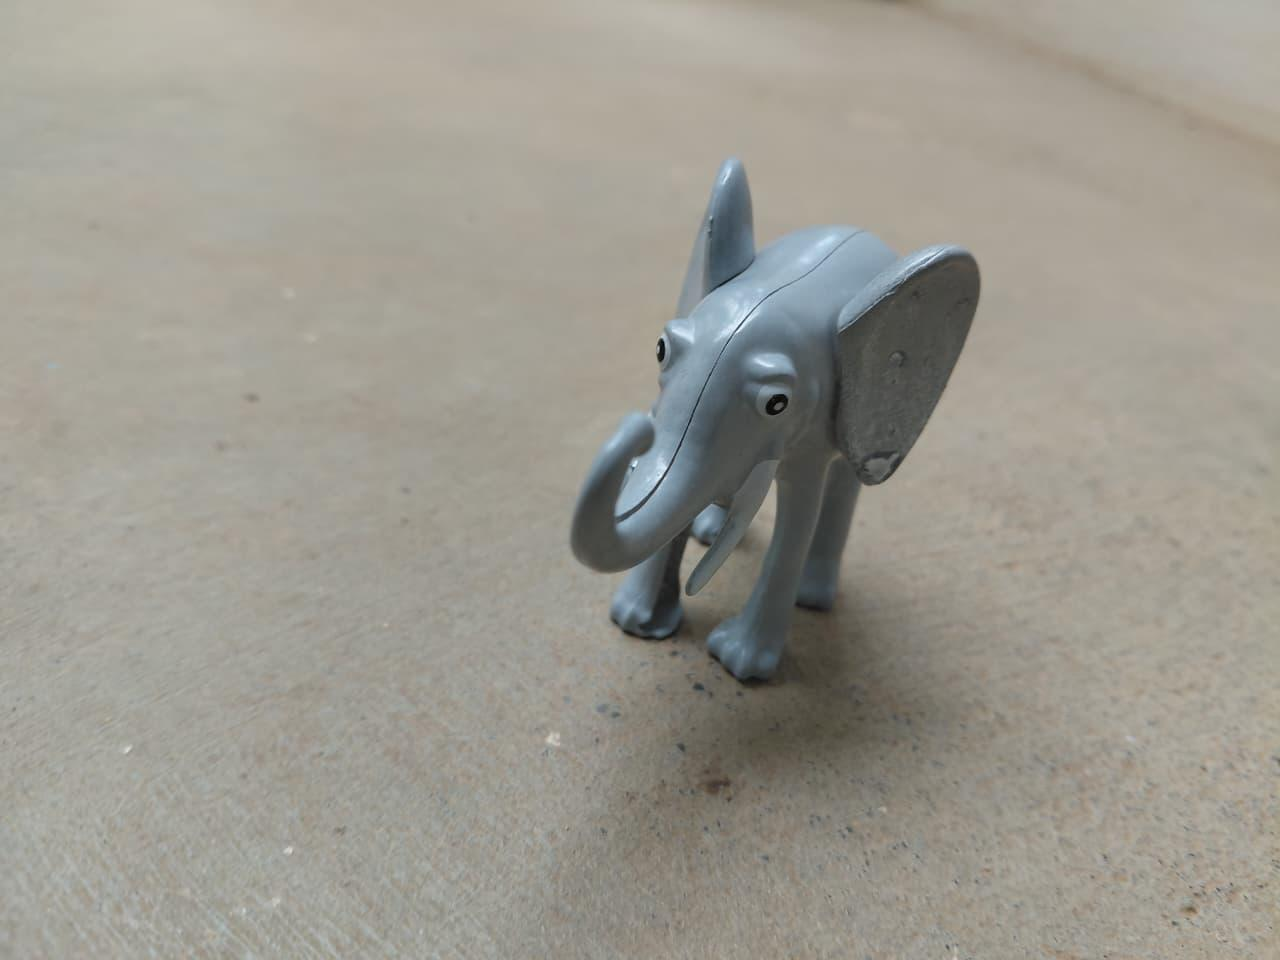elephant: (562, 152, 980, 700)
